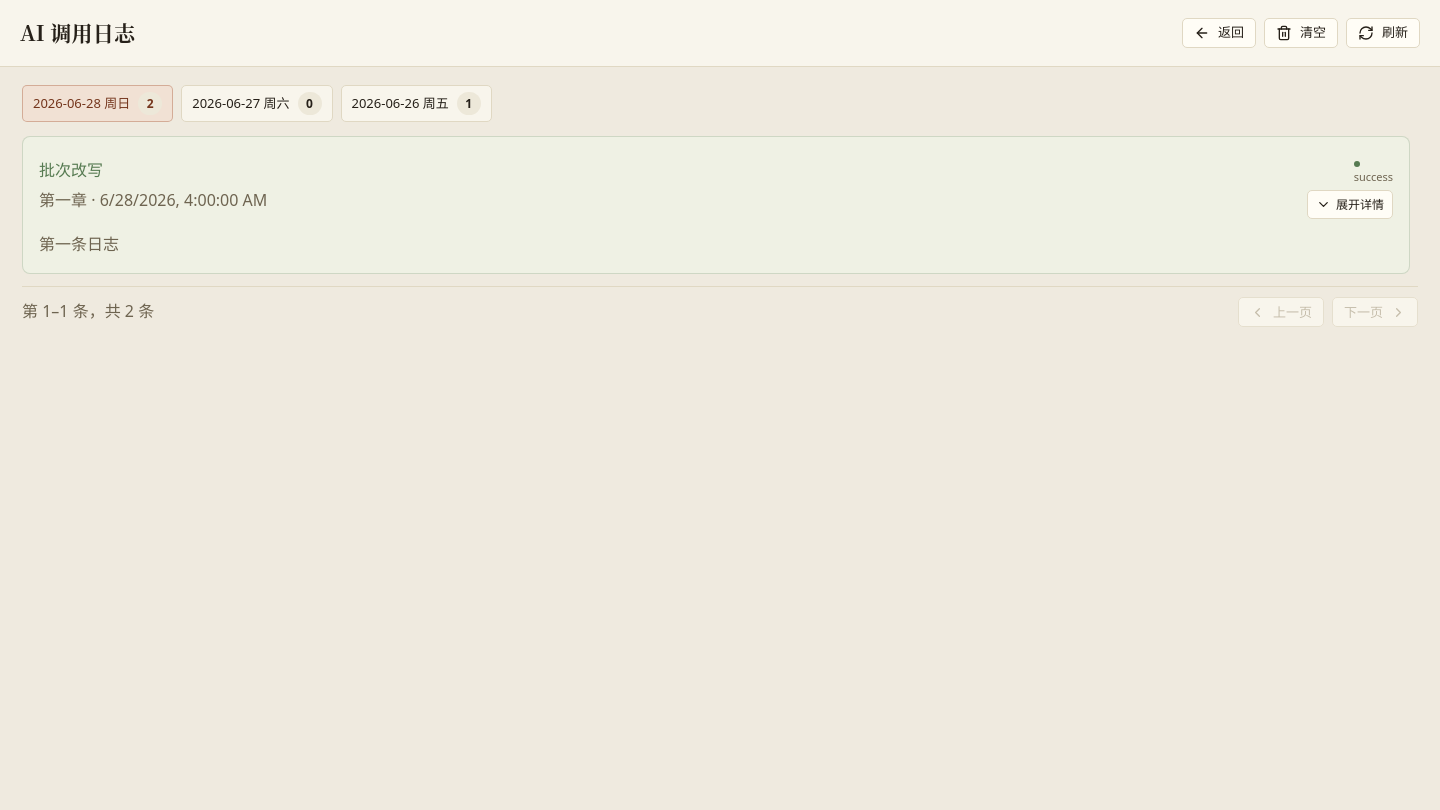
LogsPage › requests full content only when a summary is expanded
The image size is (1440, 810).
Click the button "展开详情": click(1350, 204) [1307, 190, 1393, 219]
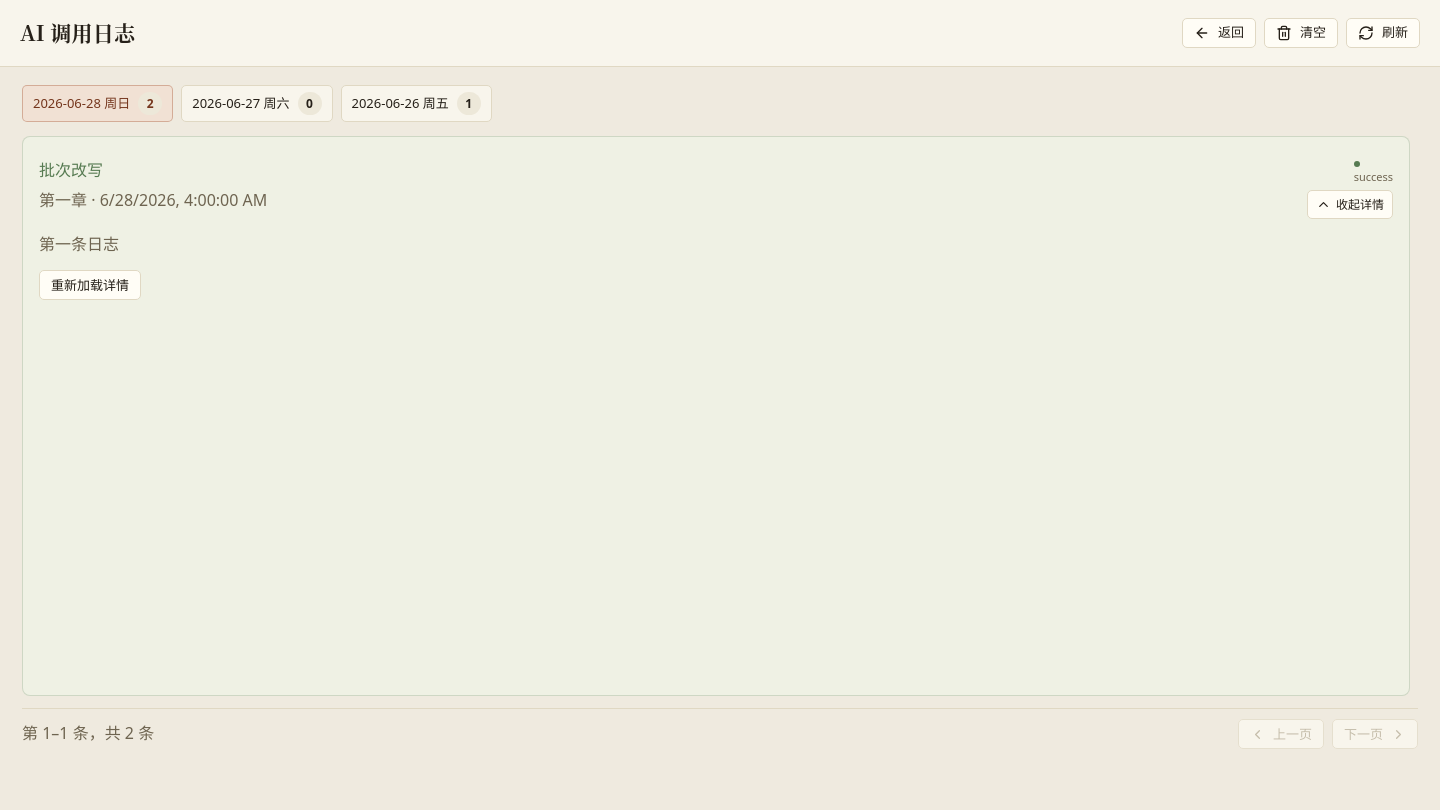
Result: the button "重新加载详情" is shown at [39, 270, 141, 300]
